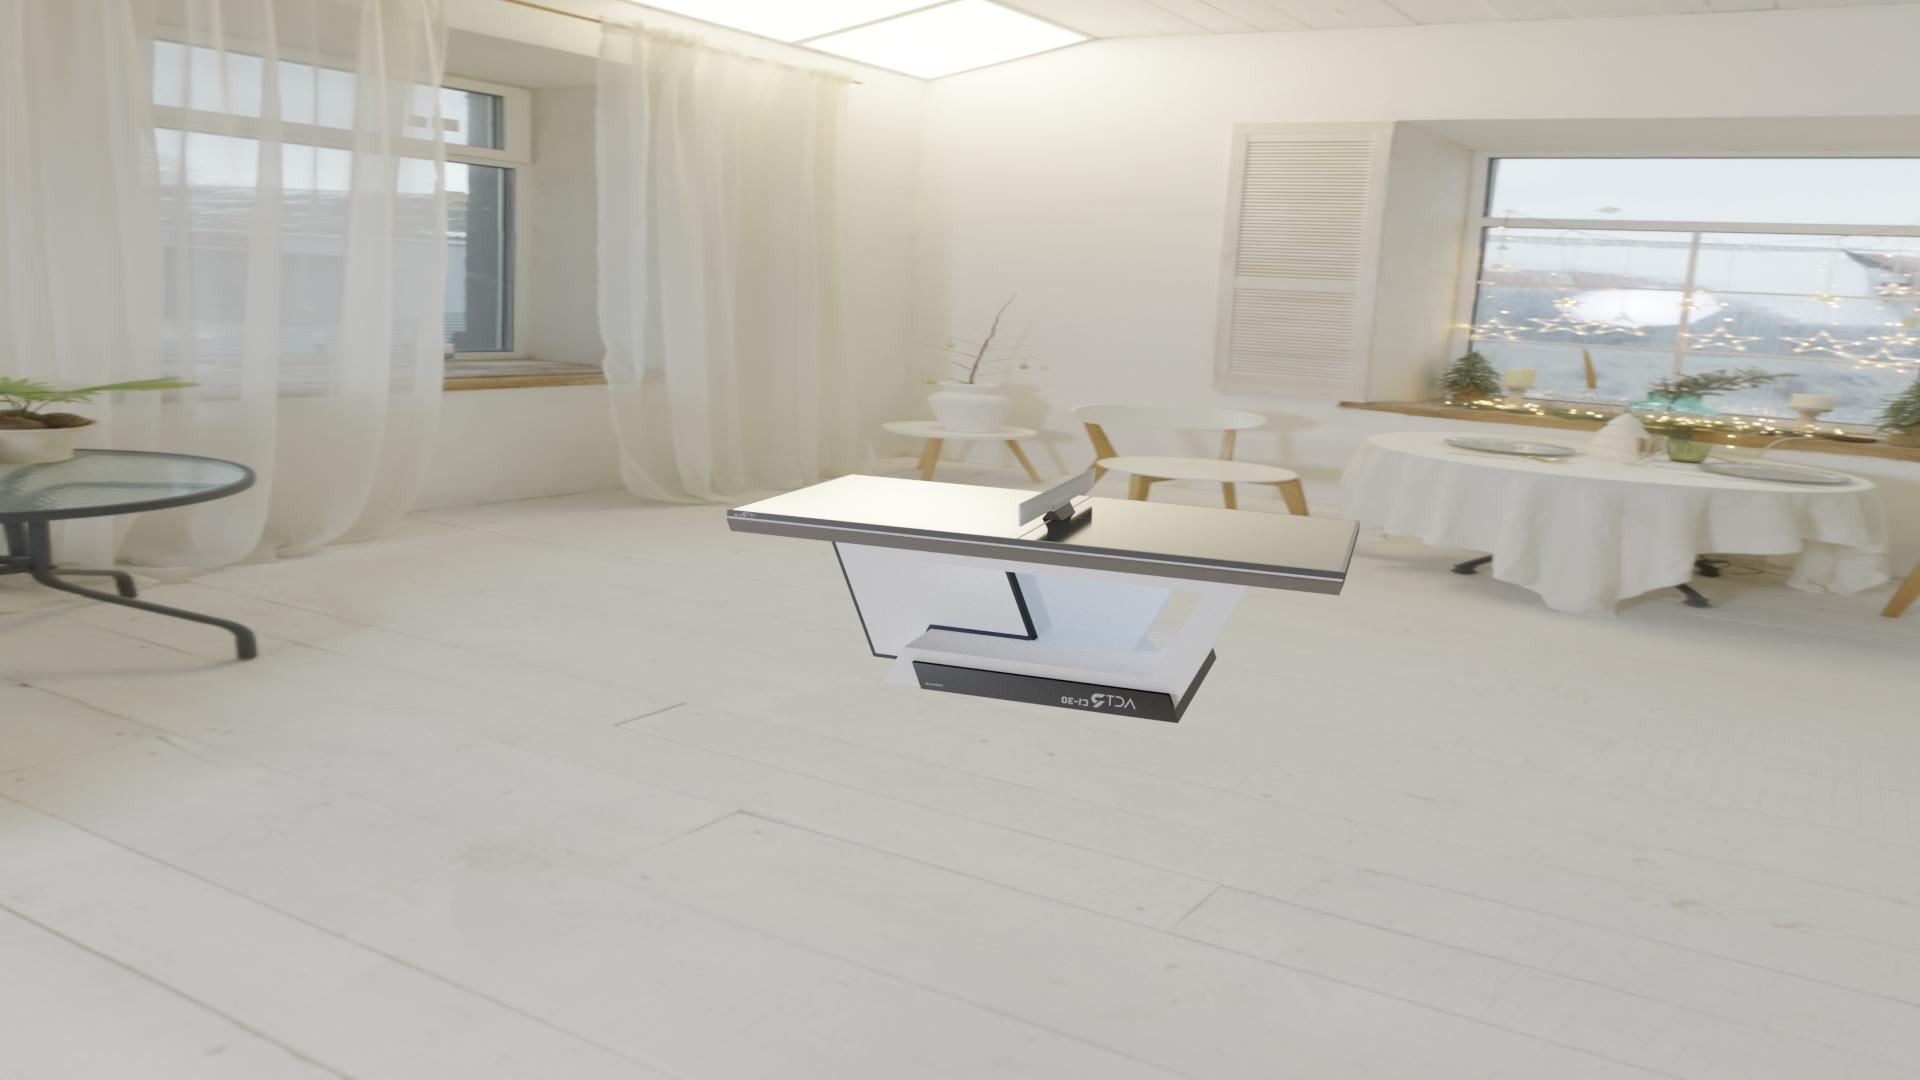table: (733, 475, 1356, 571)
